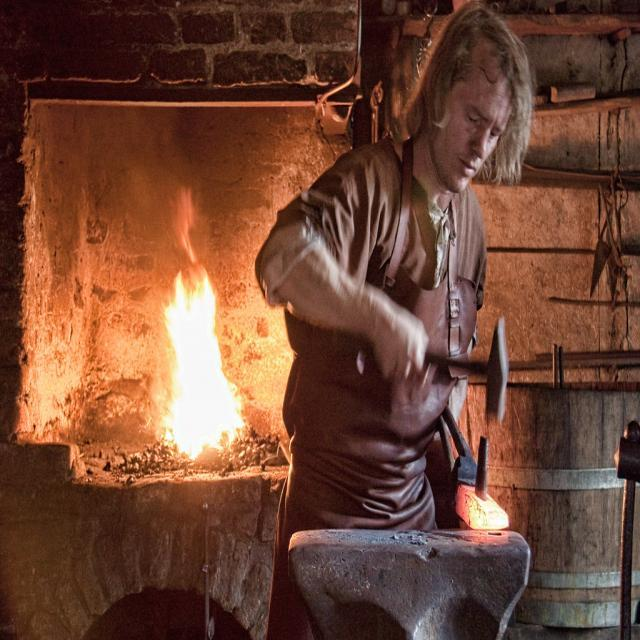hammer: (351, 310, 526, 398)
